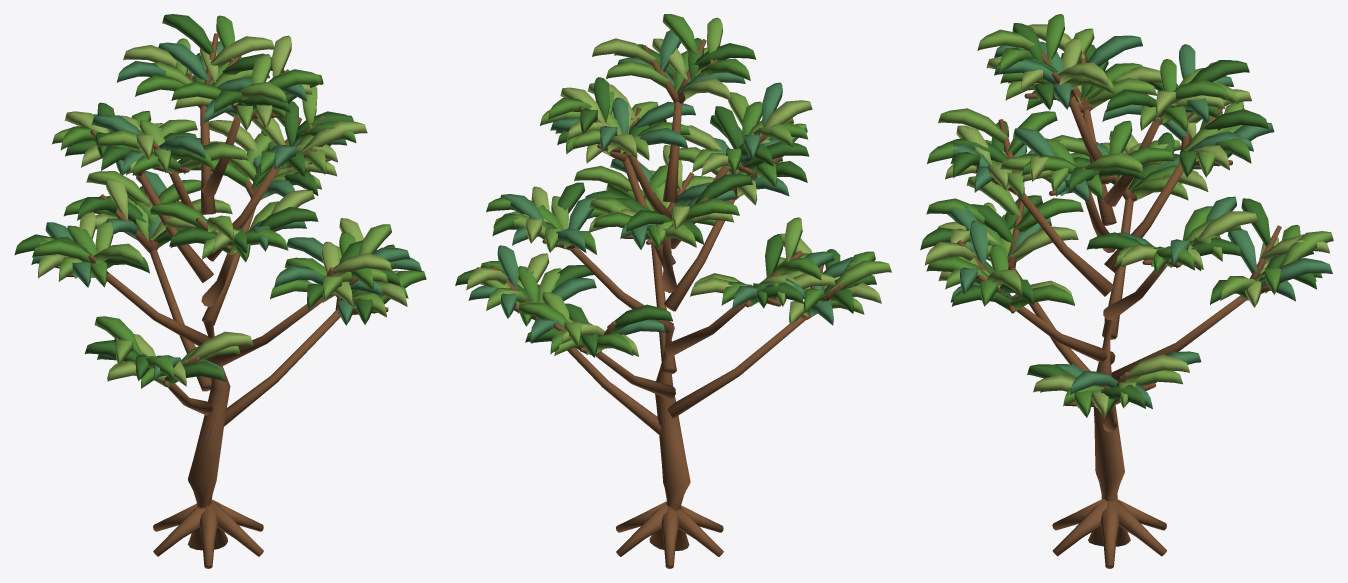
File: hero-pine.glb
3 renders of one model, left to right at view 1: azimuth 30°, elevation 25°; view 2: azimuth 150°, elevation 25°; view 3: azimuth 270°, elevation 25°, orthographic. The views are drawn at different scales.
Visible parts, largest first — view 1: Tapered fluted trunk.002, Primary branch.030, Primary branch.034, Primary branch.033, Primary branch.037, Primary branch.032, Folded pine leaf.019, Folded pine leaf.170, Folded pine leaf.171, Surface root.014, Folded pine leaf.143, Surface root.013 (+37 smaller); view 2: Tapered fluted trunk.002, Primary branch.031, Primary branch.030, Primary branch.036, Primary branch.041, Primary branch.034, Primary branch.035, Primary branch.032, Primary branch.033, Folded pine leaf.179, Folded pine leaf.035, Folded pine leaf.031 (+29 smaller); view 3: Tapered fluted trunk.002, Primary branch.036, Primary branch.032, Primary branch.033, Primary branch.037, Folded pine leaf.111, Primary branch.034, Surface root.012, Folded pine leaf.007, Surface root.013, Folded pine leaf.030, Surface root.017 (+44 smaller).
Part boxes in pixels (<box>): Tapered fluted trunk.002: <box>188,320,230,550</box>; Primary branch.030: <box>224,310,340,426</box>; Primary branch.034: <box>107,272,209,346</box>; Primary branch.033: <box>206,300,321,367</box>; Primary branch.037: <box>138,172,213,282</box>; Primary branch.032: <box>149,249,211,391</box>; Folded pine leaf.019: <box>186,331,253,362</box>; Folded pine leaf.170: <box>210,36,274,68</box>; Folded pine leaf.171: <box>162,14,214,54</box>; Surface root.014: <box>199,503,217,568</box>; Folded pine leaf.143: <box>302,120,367,152</box>; Surface root.013: <box>211,501,263,556</box>; Tapered fluted trunk.002: <box>649,326,690,550</box>; Primary branch.031: <box>667,316,805,418</box>; Primary branch.030: <box>567,347,663,435</box>; Primary branch.036: <box>664,199,734,311</box>; Primary branch.041: <box>662,101,682,202</box>; Primary branch.034: <box>664,302,745,356</box>; Primary branch.035: <box>570,246,673,334</box>; Primary branch.032: <box>596,351,675,398</box>; Primary branch.033: <box>651,244,676,374</box>; Folded pine leaf.179: <box>592,38,655,66</box>; Folded pine leaf.035: <box>607,304,673,333</box>; Folded pine leaf.031: <box>829,260,891,291</box>; Tapered fluted trunk.002: <box>1088,317,1130,546</box>; Primary branch.036: <box>1017,193,1114,296</box>; Primary branch.032: <box>1111,295,1245,381</box>; Primary branch.033: <box>1016,306,1115,364</box>; Primary branch.037: <box>1104,162,1183,273</box>; Folded pine leaf.111: <box>938,108,1007,143</box>; Primary branch.034: <box>1102,197,1133,339</box>; Surface root.012: <box>1100,501,1119,568</box>; Folded pine leaf.007: <box>1120,354,1189,382</box>; Surface root.013: <box>1052,499,1110,556</box>; Folded pine leaf.030: <box>1015,198,1083,232</box>; Surface root.017: <box>1113,499,1166,556</box>.
Size of the model in its own units: 0.2205 by 0.2767 by 0.2021.
